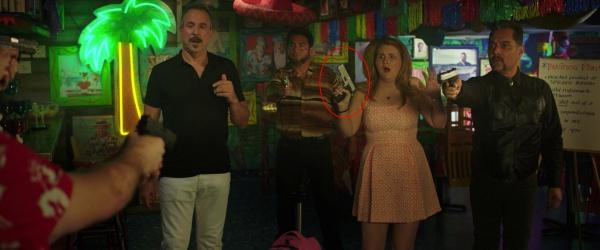Gun: (135, 114, 178, 150), (333, 64, 356, 106), (437, 68, 459, 88), (282, 75, 290, 87)
